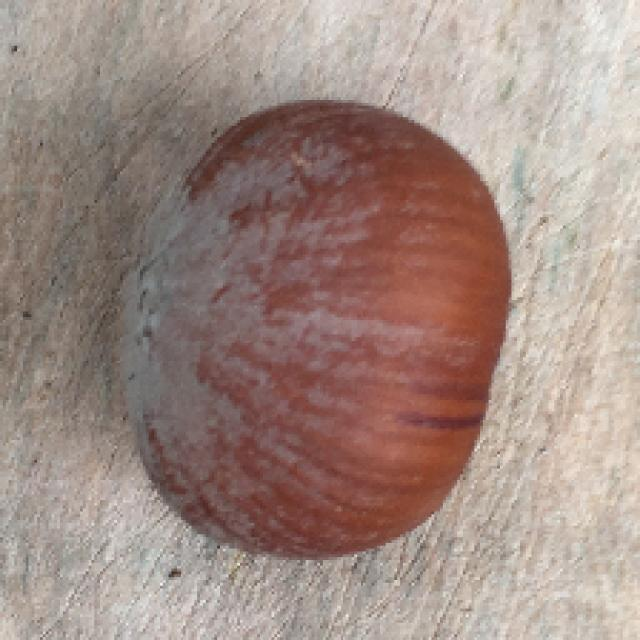qualityHazelnut: (124, 96, 510, 557)
